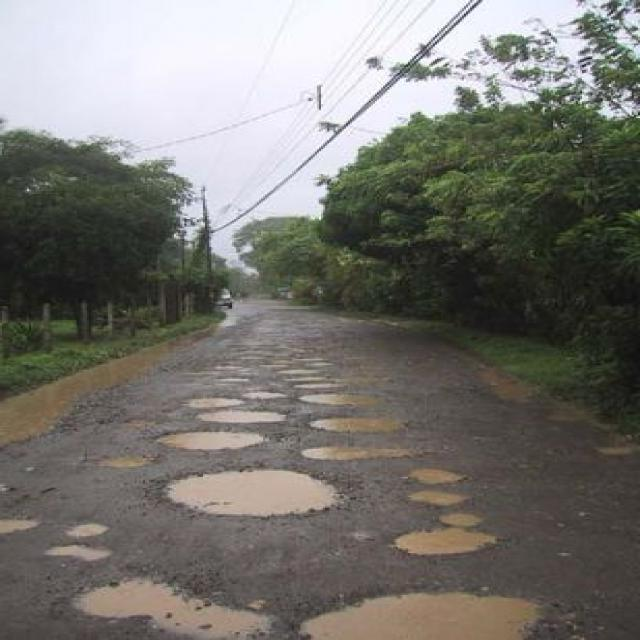Pothole: (66, 564, 292, 639), (296, 586, 551, 639), (160, 462, 353, 518), (385, 506, 497, 561), (151, 424, 278, 451), (301, 440, 417, 460), (41, 541, 118, 566), (197, 404, 299, 422), (404, 480, 479, 503), (298, 388, 398, 404), (404, 467, 479, 485), (191, 390, 251, 408), (60, 519, 120, 536)
